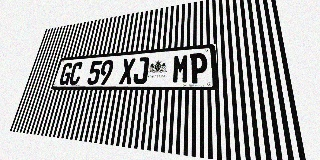5: (86, 60, 103, 85)
9: (98, 59, 114, 85)
C: (68, 62, 84, 85)
G: (58, 63, 74, 85)
J: (132, 57, 149, 84)
M: (172, 54, 189, 84)
P: (189, 52, 208, 83)
X: (119, 58, 136, 84)
